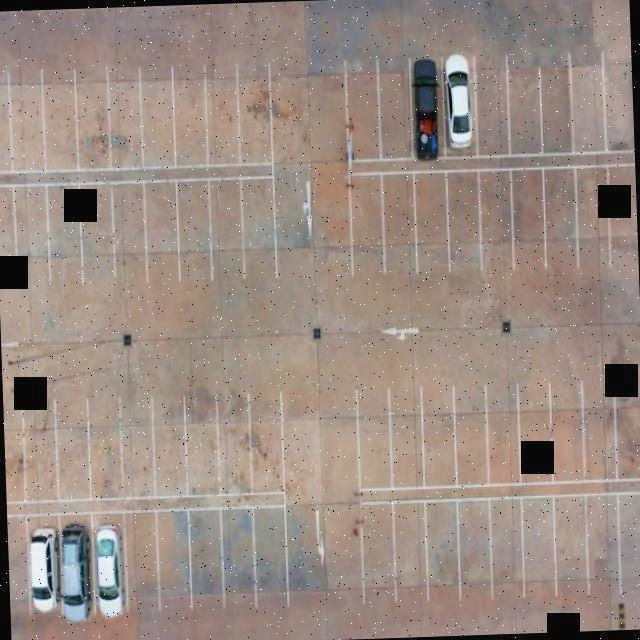car: (86, 506, 131, 626), (54, 509, 96, 630), (22, 508, 62, 628), (404, 55, 447, 161), (438, 60, 482, 162)
free: (115, 390, 162, 504), (448, 381, 494, 497), (245, 383, 288, 502), (211, 390, 257, 500), (416, 383, 462, 492), (121, 510, 166, 616), (17, 398, 62, 504), (546, 375, 588, 487), (52, 396, 94, 508), (576, 380, 622, 482), (352, 387, 395, 496), (513, 380, 555, 491), (484, 382, 527, 489), (385, 383, 426, 494), (550, 488, 592, 596), (484, 496, 526, 602), (582, 494, 624, 598), (518, 493, 558, 602), (150, 398, 190, 506), (390, 497, 430, 602), (154, 510, 196, 610), (453, 497, 492, 603), (422, 499, 462, 602), (181, 397, 221, 500), (83, 397, 123, 500), (250, 509, 292, 605), (216, 509, 258, 605), (357, 504, 396, 598), (186, 514, 224, 604)
